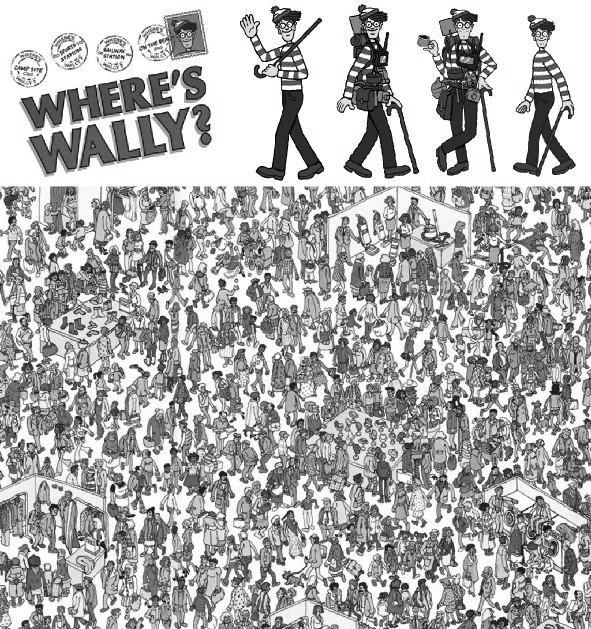Waldo: (236, 7, 325, 178), (337, 5, 418, 178), (423, 8, 501, 175), (510, 8, 582, 175), (170, 17, 203, 54), (94, 267, 113, 297)
